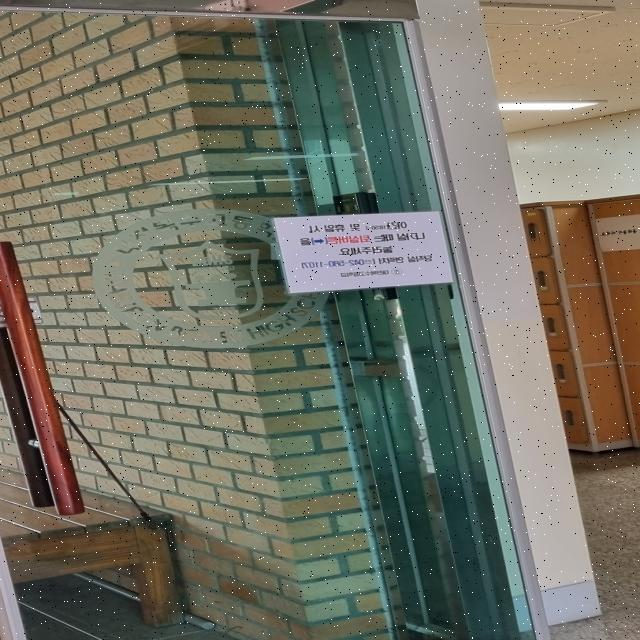logo: (90, 207, 332, 350), (390, 266, 406, 276)
